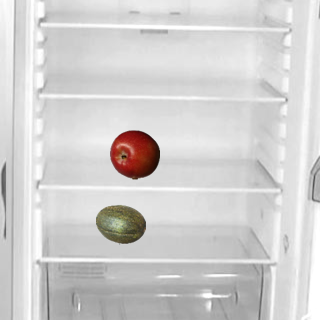Apple Braeburn: (109, 129, 159, 179)
Melon Piel de Sapo: (95, 199, 145, 249)
